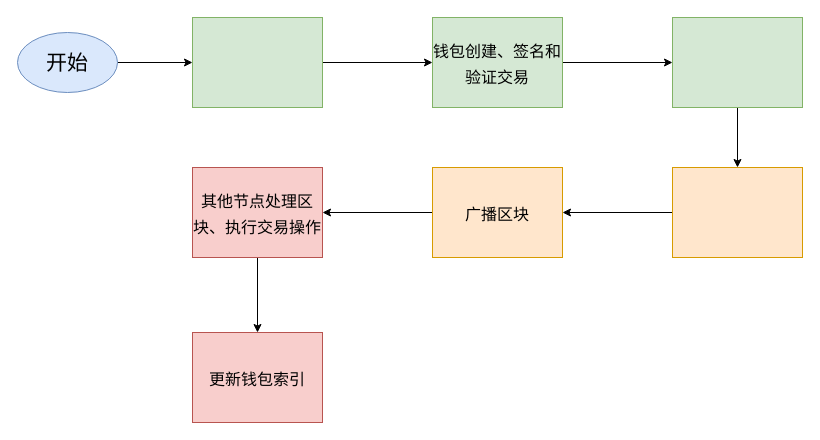
Some shapes in this 820 by 440 pixel diagram are drawn without their labels. Here are the shapes that lost their labels. From the top down, the centre of each, then its label:
(x=257, y=62): NEO-CLI、NEO-GUI、RPC触发交易
(x=737, y=62): 广播交易
(x=737, y=212): 共识节点打包交易、产生新区块
